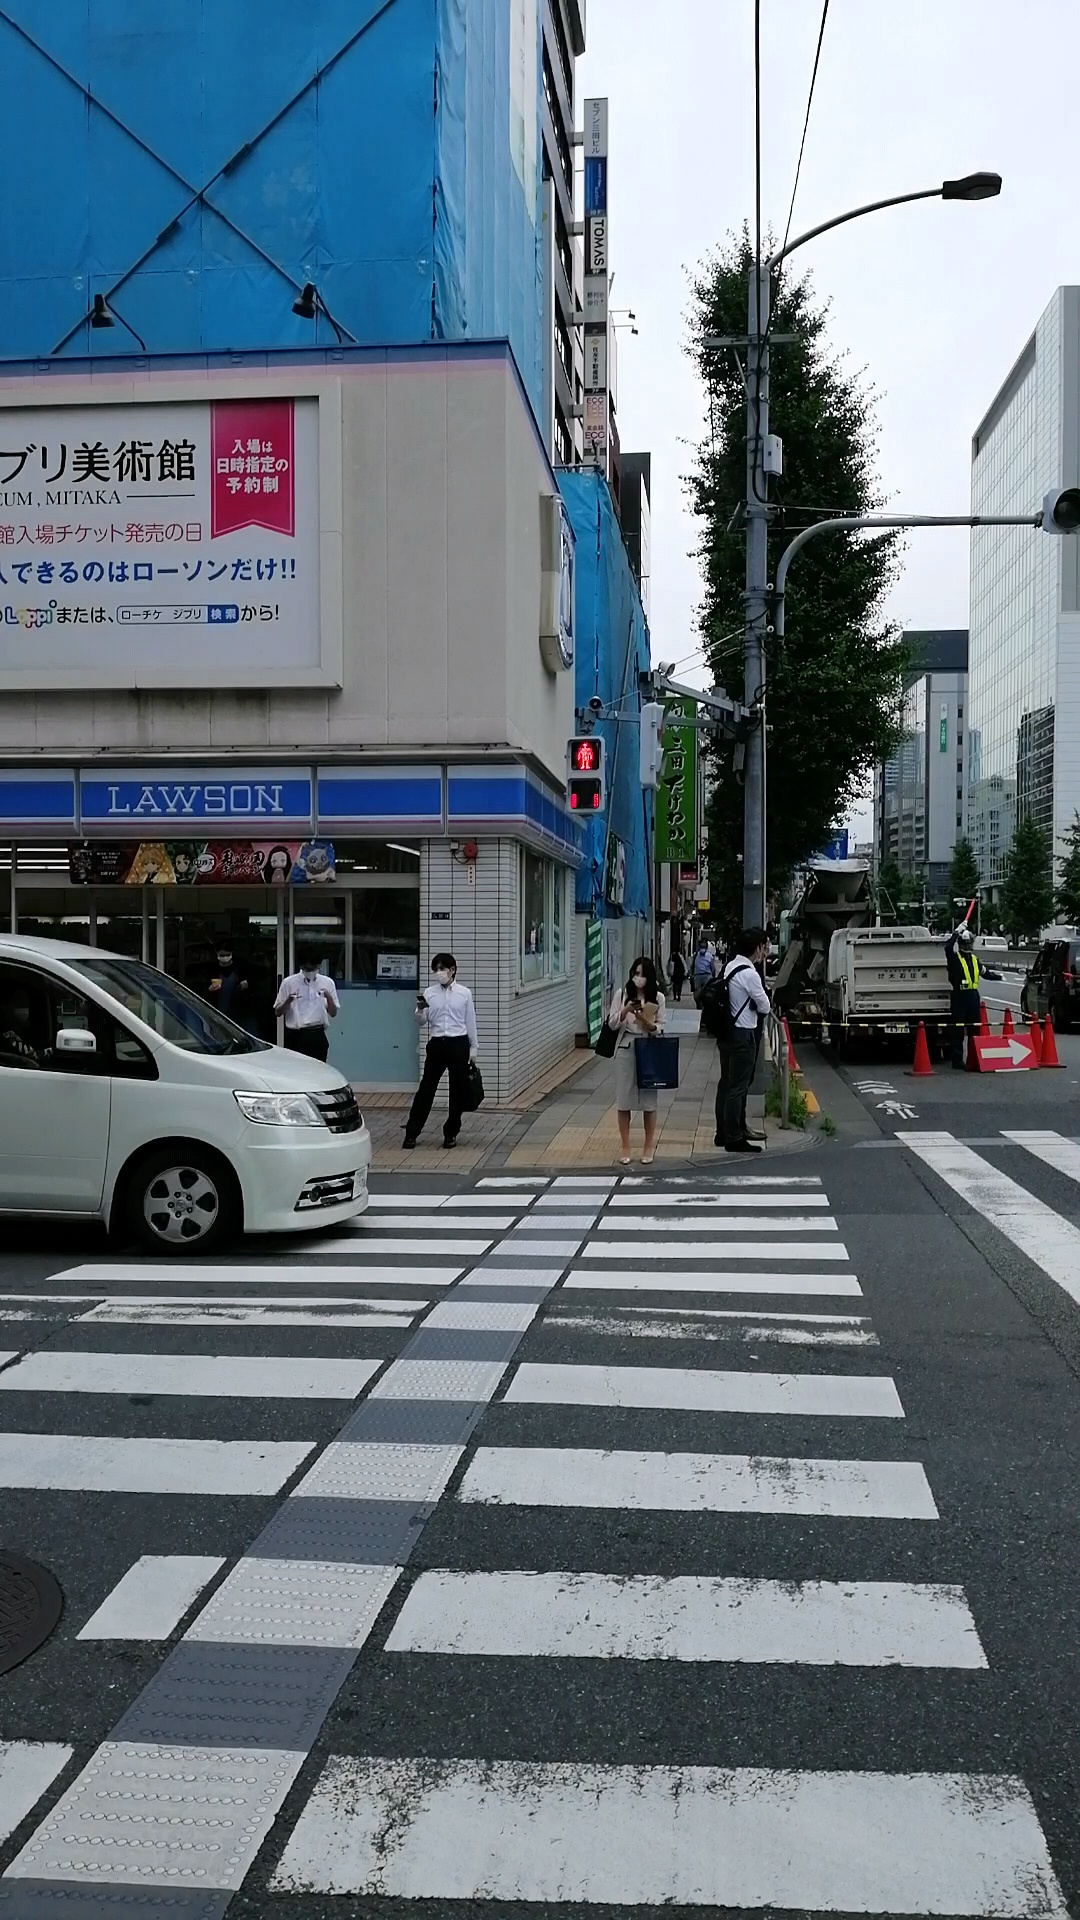red: (564, 736, 607, 814)
